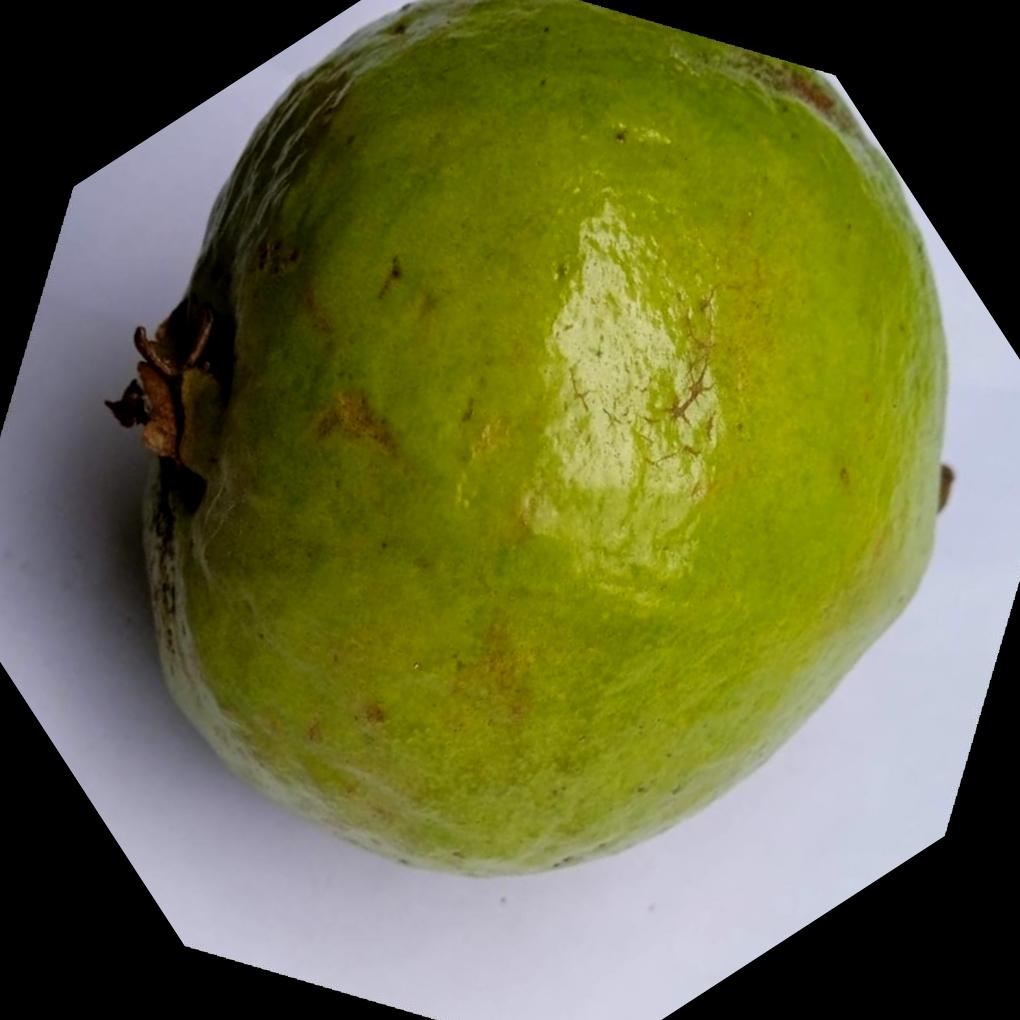FreshGuava: (111, 0, 955, 879)
